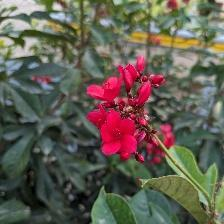jatropha: (101, 112, 140, 160)
